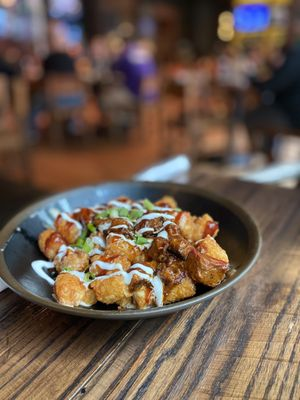sushi: (1, 179, 263, 324)
